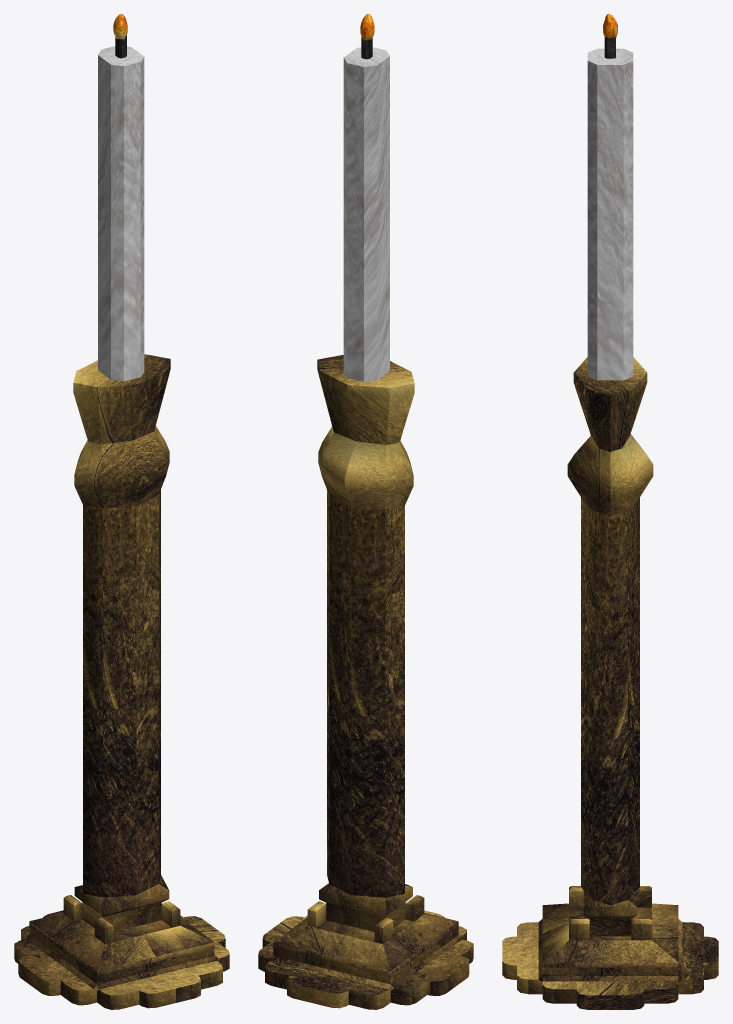
Rendered from MediumCandle.fbx.
3 renders of one model, left to right at view 1: azimuth 30°, elevation 25°; view 2: azimuth 150°, elevation 25°; view 3: azimuth 270°, elevation 25°, orthographic.
Visible parts, largest first — view 1: MediumCandleShape; view 2: MediumCandleShape; view 3: MediumCandleShape.
Boxes of the visible parts, x1,y1,x2,y2 form: MediumCandleShape: (14,14,229,1009); MediumCandleShape: (258,14,473,1009); MediumCandleShape: (502,14,718,1009).
Size of the model in its own units: 1.55 by 7.72 by 1.59.
5 materials, 4 textured.
